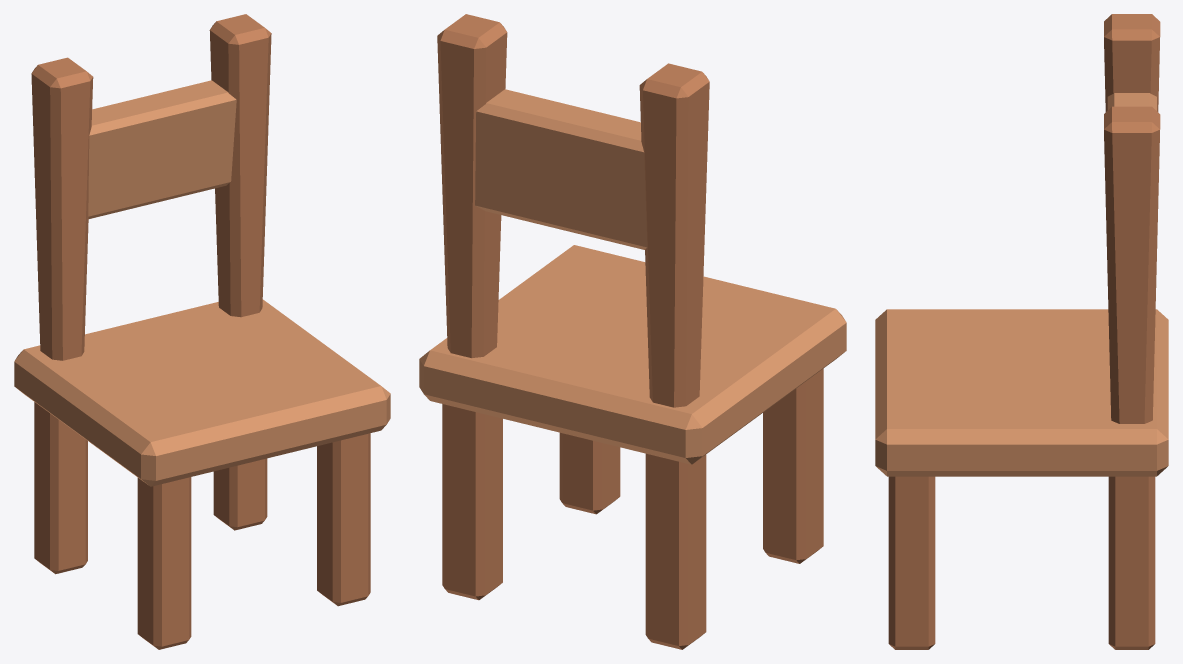
File: _Chair.fbx
3 views of the same model, side by side, from view 1: azimuth 30°, elevation 25°; view 2: azimuth 150°, elevation 25°; view 3: azimuth 270°, elevation 25° (orthographic). The views are drawn at different scales.
Visible parts, largest first — view 1: 05_Chair / Seat, 05_Chair / Back upright, 05_Chair / Back rest, 05_Chair / Back upright.001, 05_Chair / Leg, 05_Chair / Leg.002, 05_Chair / Leg.001, 05_Chair / Leg.003; view 2: 05_Chair / Seat, 05_Chair / Back rest, 05_Chair / Back upright, 05_Chair / Back upright.001, 05_Chair / Leg.001, 05_Chair / Leg.003, 05_Chair / Leg, 05_Chair / Leg.002; view 3: 05_Chair / Seat, 05_Chair / Back upright.001, 05_Chair / Leg.002, 05_Chair / Leg.003, 05_Chair / Back upright, 05_Chair / Back rest.
Part boxes in pixels (left/top/right/bottom): 05_Chair / Seat: left=14, top=299, right=390, bottom=486; 05_Chair / Back upright: left=31, top=57, right=93, bottom=360; 05_Chair / Back rest: left=88, top=80, right=236, bottom=218; 05_Chair / Back upright.001: left=209, top=14, right=271, bottom=317; 05_Chair / Leg: left=137, top=477, right=191, bottom=649; 05_Chair / Leg.002: left=317, top=433, right=370, bottom=606; 05_Chair / Leg.001: left=34, top=402, right=87, bottom=574; 05_Chair / Leg.003: left=213, top=458, right=267, bottom=530; 05_Chair / Seat: left=419, top=245, right=846, bottom=464; 05_Chair / Back rest: left=475, top=89, right=647, bottom=249; 05_Chair / Back upright: left=639, top=63, right=709, bottom=407; 05_Chair / Back upright.001: left=437, top=14, right=507, bottom=358; 05_Chair / Leg.001: left=645, top=453, right=706, bottom=649; 05_Chair / Leg.003: left=442, top=404, right=502, bottom=600; 05_Chair / Leg: left=763, top=368, right=823, bottom=563; 05_Chair / Leg.002: left=559, top=432, right=620, bottom=514; 05_Chair / Seat: left=875, top=309, right=1168, bottom=476; 05_Chair / Back upright.001: left=1104, top=106, right=1160, bottom=423; 05_Chair / Leg.002: left=888, top=476, right=935, bottom=649; 05_Chair / Leg.003: left=1108, top=476, right=1155, bottom=649; 05_Chair / Back upright: left=1104, top=14, right=1160, bottom=111; 05_Chair / Back rest: left=1107, top=93, right=1156, bottom=110.
Bounding box in the file's own units: 92 × 175 × 88.
